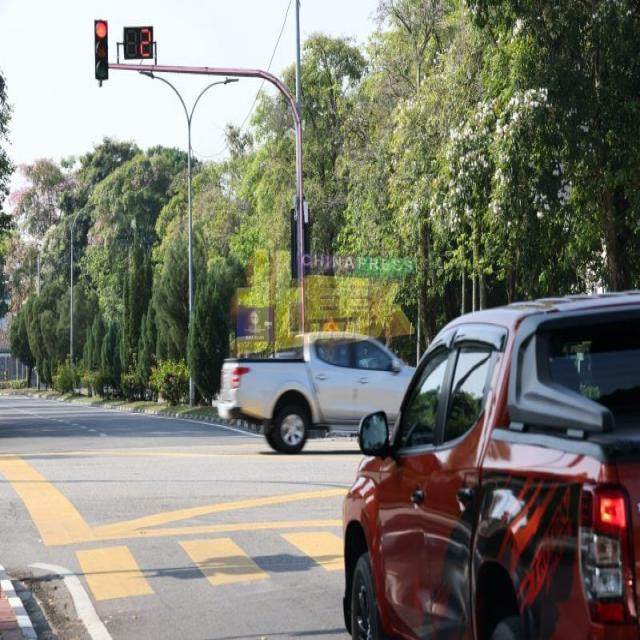red light: (94, 18, 110, 82)
